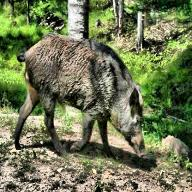boar: (5, 25, 145, 168)
